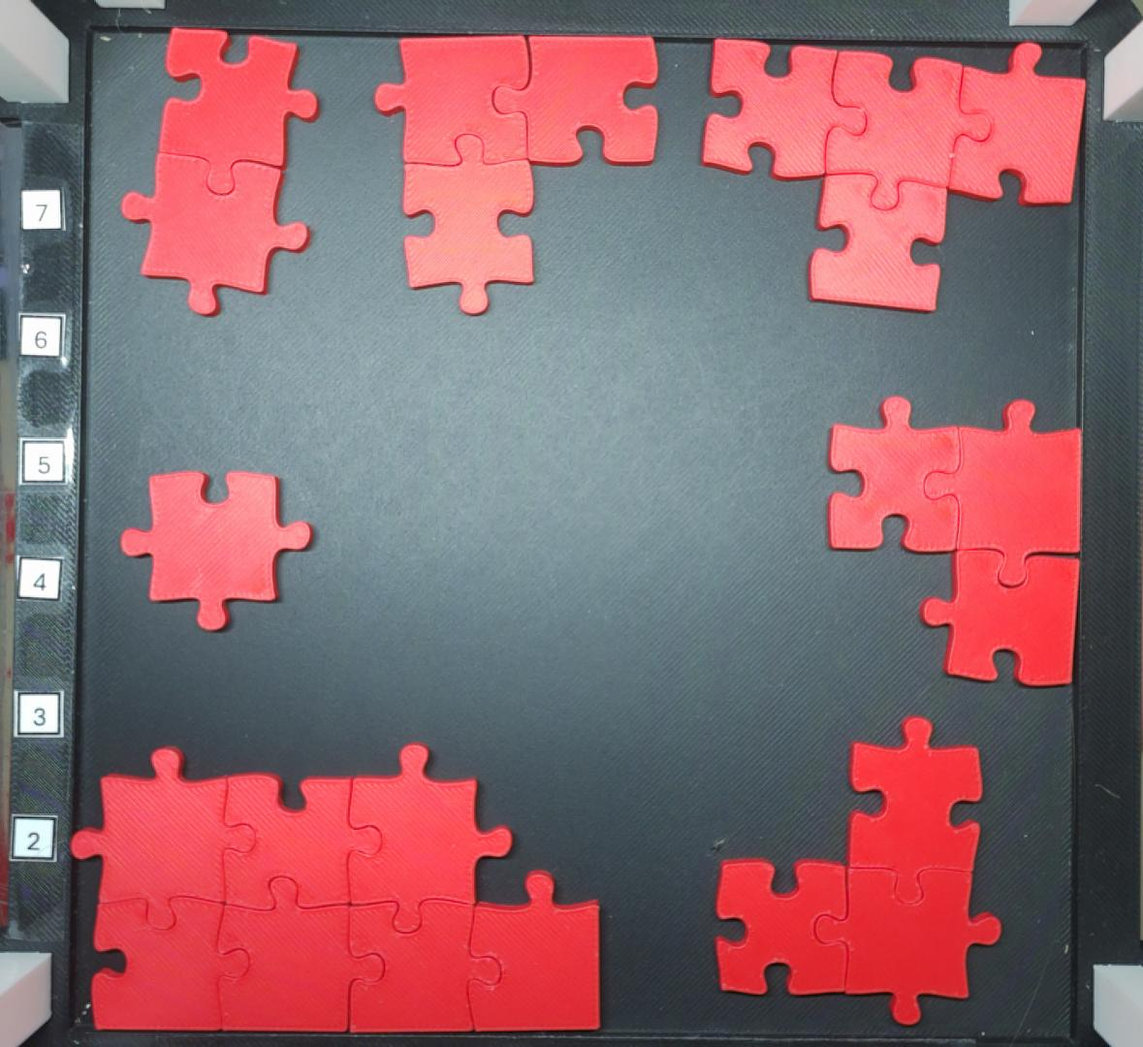p_1: (118, 468, 315, 634)
p_2: (119, 24, 322, 319)
p_3: (713, 716, 1003, 1027), (372, 32, 660, 316), (824, 394, 1085, 688)
p_4: (699, 35, 1089, 315)
p_m: (67, 742, 604, 1035)
